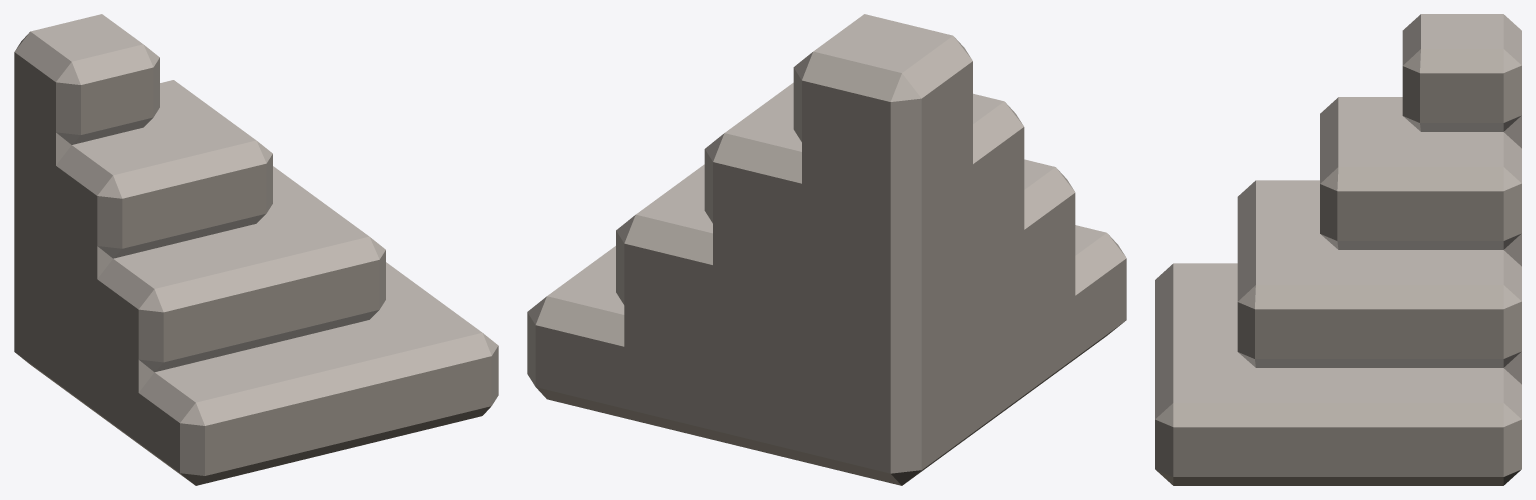
File: m_kub_stone_stairs_block_cornerOut.FBX
3 renders of one model, left to right at view 1: azimuth 30°, elevation 25°; view 2: azimuth 150°, elevation 25°; view 3: azimuth 270°, elevation 25°, orthographic. The views are drawn at different scales.
Visible parts, largest first — view 1: m_kub_stone_stairs_block_cornerOut; view 2: m_kub_stone_stairs_block_cornerOut; view 3: m_kub_stone_stairs_block_cornerOut.
Boxes of the visible parts, left/top/right/bottom form: m_kub_stone_stairs_block_cornerOut: left=14, top=14, right=498, bottom=485; m_kub_stone_stairs_block_cornerOut: left=527, top=14, right=1126, bottom=485; m_kub_stone_stairs_block_cornerOut: left=1155, top=14, right=1521, bottom=485.
Size of the model in its own units: 2 by 2 by 2.
